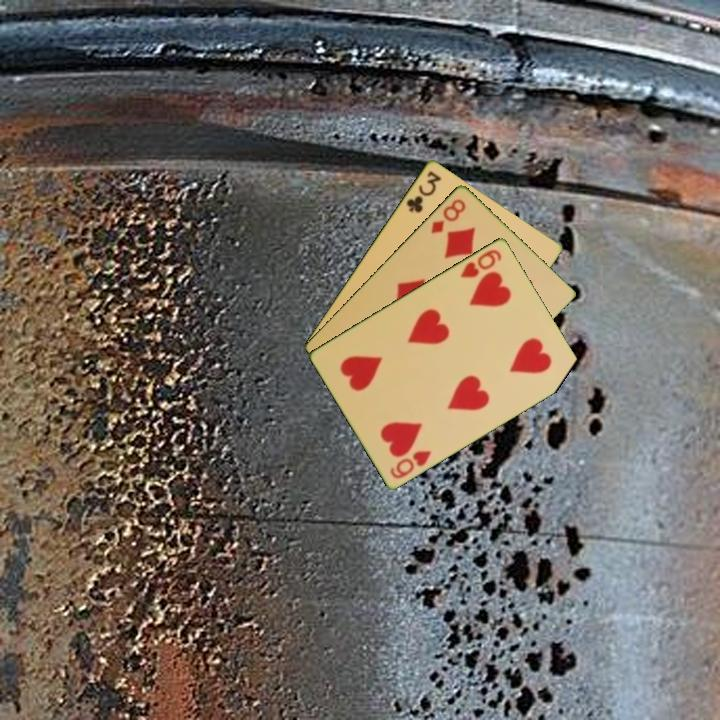3c: (402, 167, 444, 215)
6h: (457, 245, 505, 281), (386, 446, 434, 481)
8d: (427, 195, 469, 236)
